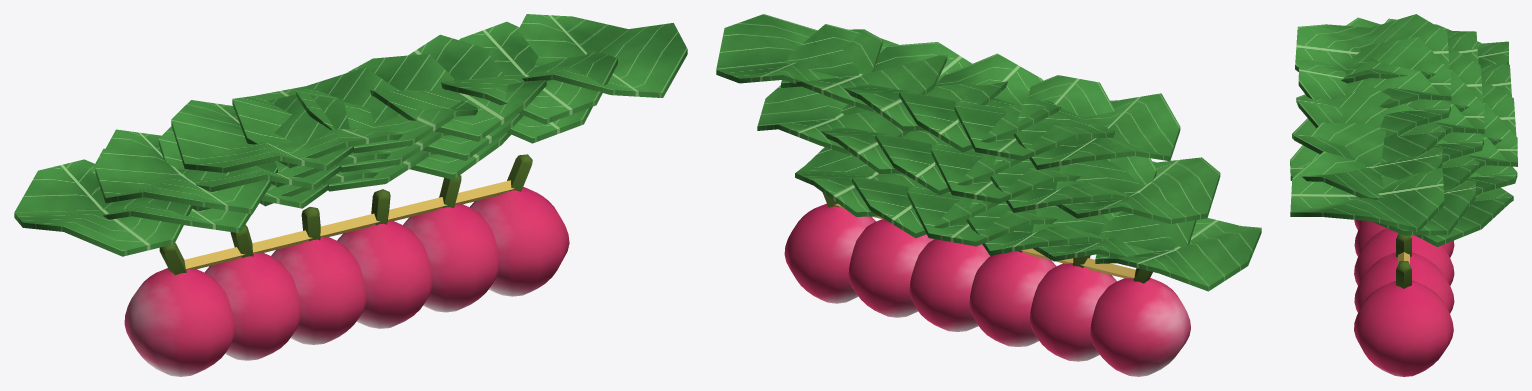
Rendered from veg_radish_bunch.glb.
3 views of the same model, side by side, from view 1: azimuth 30°, elevation 25°; view 2: azimuth 150°, elevation 25°; view 3: azimuth 270°, elevation 25° (orthographic). The views are drawn at different scales.
Parts seen in each view (by area): view 1: veg_radish_bunch; view 2: veg_radish_bunch; view 3: veg_radish_bunch.
Boxes of the visible parts, bbox=[...] form: veg_radish_bunch: bbox=[14, 14, 687, 376]; veg_radish_bunch: bbox=[716, 14, 1261, 376]; veg_radish_bunch: bbox=[1290, 14, 1517, 376].
Bounding box in the file's own units: 0.1849 × 0.0727 × 0.0684.
4 materials, 2 textured.
